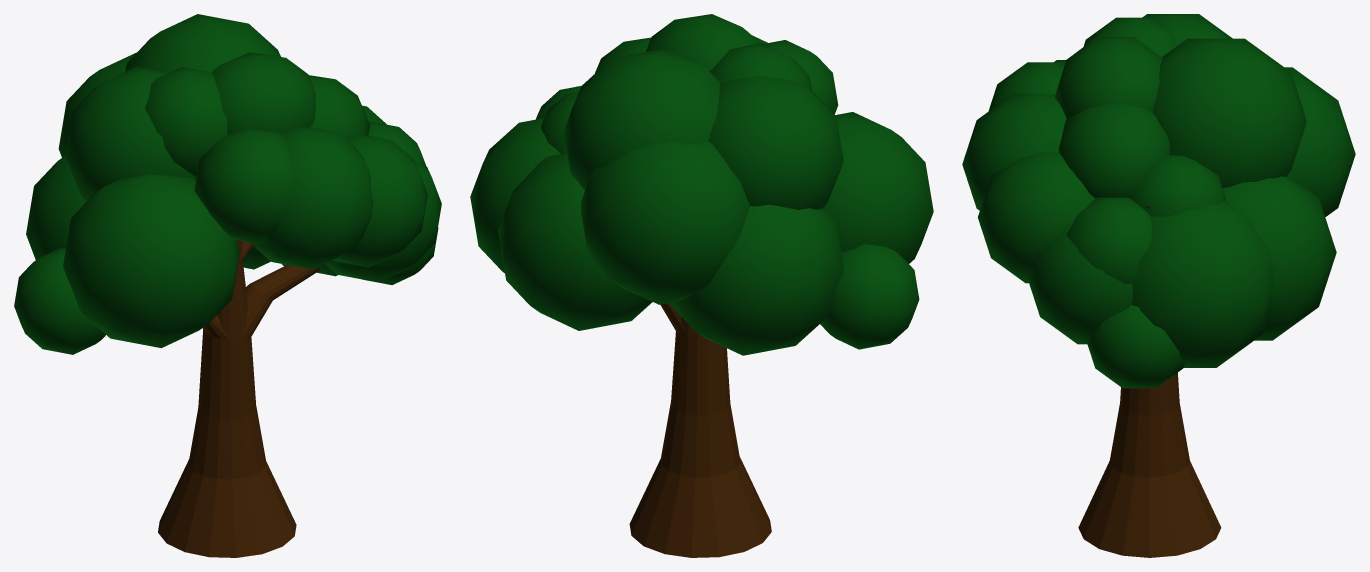
Rendered from Pohon.fbx.
The picture shows the model from 3 angles, left to right: view 1: azimuth 30°, elevation 25°; view 2: azimuth 150°, elevation 25°; view 3: azimuth 270°, elevation 25°; orthographic projection. The views are drawn at different scales.
Visible parts, largest first — view 1: Icosphere.049, Cylinder; view 2: Icosphere.049, Cylinder; view 3: Icosphere.049, Cylinder.
Part boxes in pixels (x1,y1,x2,y2): Icosphere.049: (14,14,441,354); Cylinder: (158,240,319,557); Icosphere.049: (470,14,933,355); Cylinder: (629,303,771,557); Icosphere.049: (962,14,1355,388); Cylinder: (1078,87,1221,557).
Size of the model in its own units: 634 by 723 by 524.
